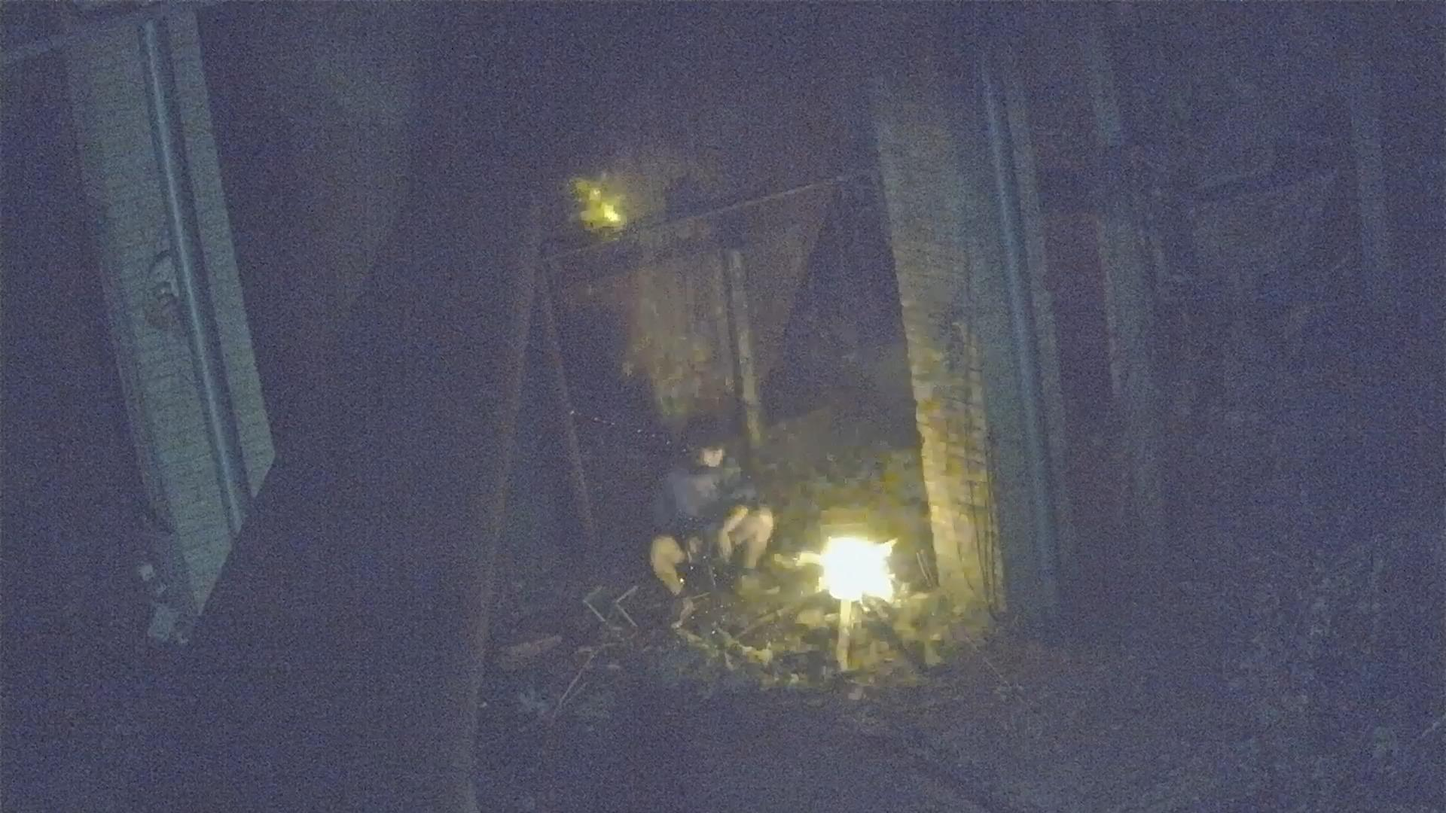fire: (818, 537, 893, 604)
